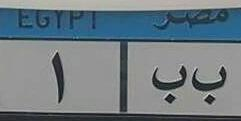1: (47, 49, 69, 105)
baa: (146, 63, 188, 105), (190, 62, 228, 107)
